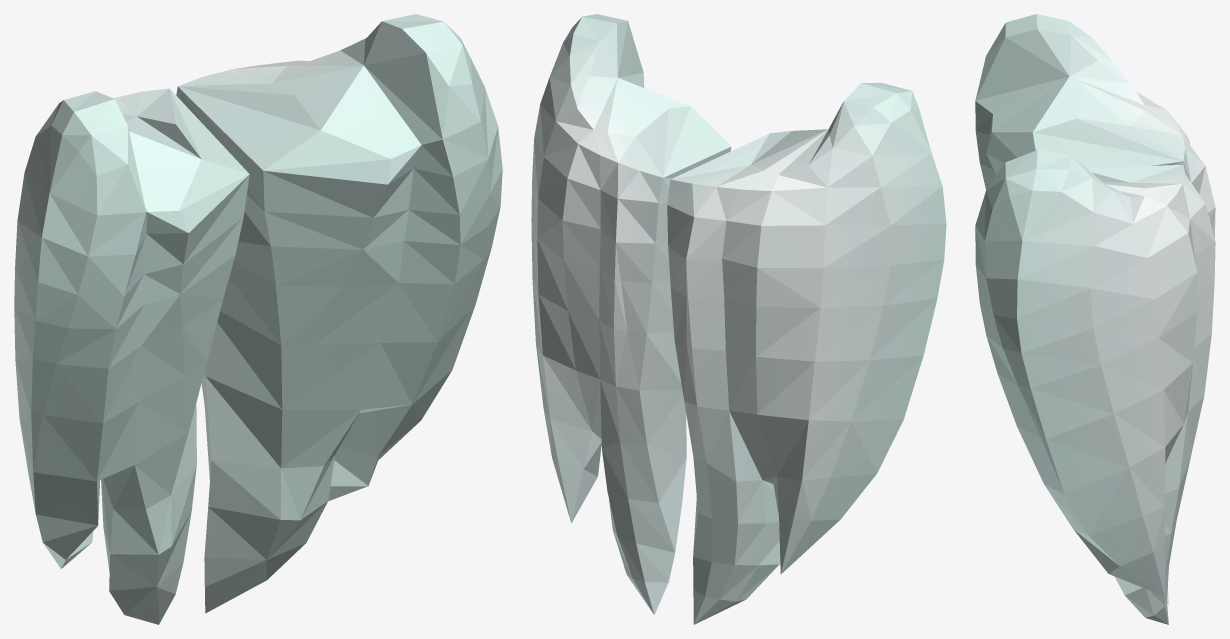
Rendered from CharSkyKid_Hair_ElderDawn.glb.
3 renders of one model, left to right at view 1: azimuth 30°, elevation 25°; view 2: azimuth 150°, elevation 25°; view 3: azimuth 270°, elevation 25°, orthographic. The views are drawn at different scales.
Parts seen in each view (by area): view 1: CharSkyKid_Hair_ElderDawn; view 2: CharSkyKid_Hair_ElderDawn; view 3: CharSkyKid_Hair_ElderDawn.
Boxes of the visible parts, x1,y1,x2,y2 form: CharSkyKid_Hair_ElderDawn: (14, 14, 502, 624); CharSkyKid_Hair_ElderDawn: (531, 14, 946, 624); CharSkyKid_Hair_ElderDawn: (975, 14, 1215, 624).
Bounding box in the file's own units: 2.72 × 3.42 × 1.42.
Materials: 1 (1 with a texture image).
